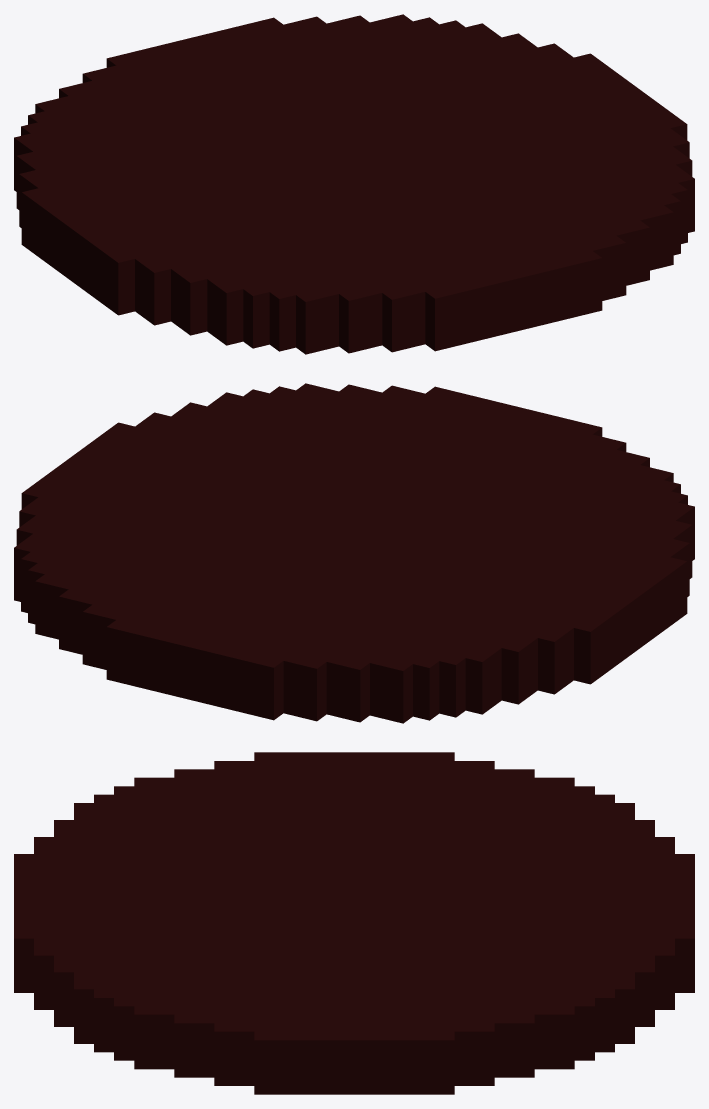
The model's file is BurnedBurger.obj.
The picture shows the model from 3 angles, top to bottom: view 1: azimuth 30°, elevation 25°; view 2: azimuth 150°, elevation 25°; view 3: azimuth 270°, elevation 25°; orthographic projection. The views are drawn at different scales.
Bounding box in the file's own units: 3.4 × 0.3 × 3.4.
1 material, 1 textured.
